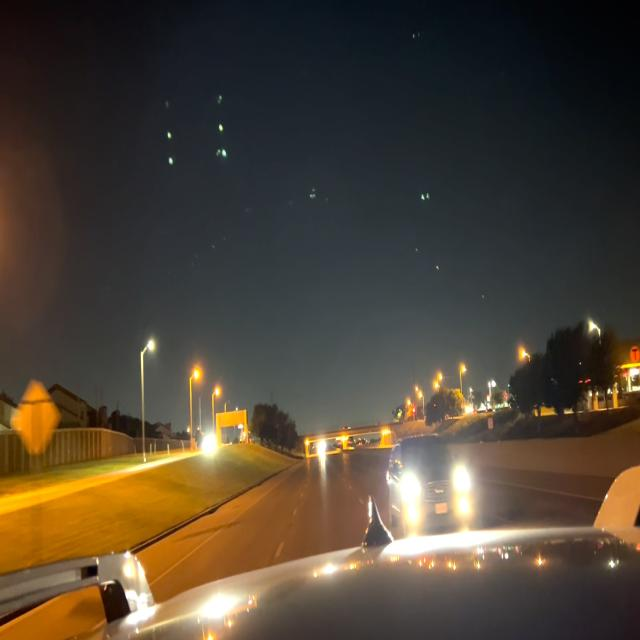back-of-sign: (12, 380, 58, 451)
